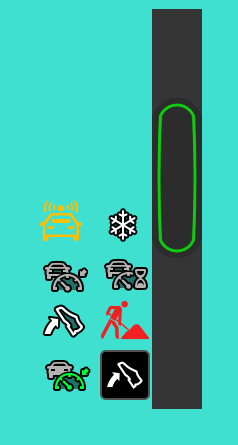ACCELERATOR: (36, 302, 94, 346)
ACCELERATOR_R: (99, 349, 149, 401)
ACC_AKTIV: (37, 255, 94, 297)
ACC_OVER: (38, 353, 94, 398)
ACC_WAITING: (101, 257, 149, 293)
CONSTRUCTION: (97, 297, 149, 346)
EISSTERN: (105, 207, 144, 244)
SEV_INF: (34, 199, 93, 249)
SLIDER: (153, 97, 204, 262)
